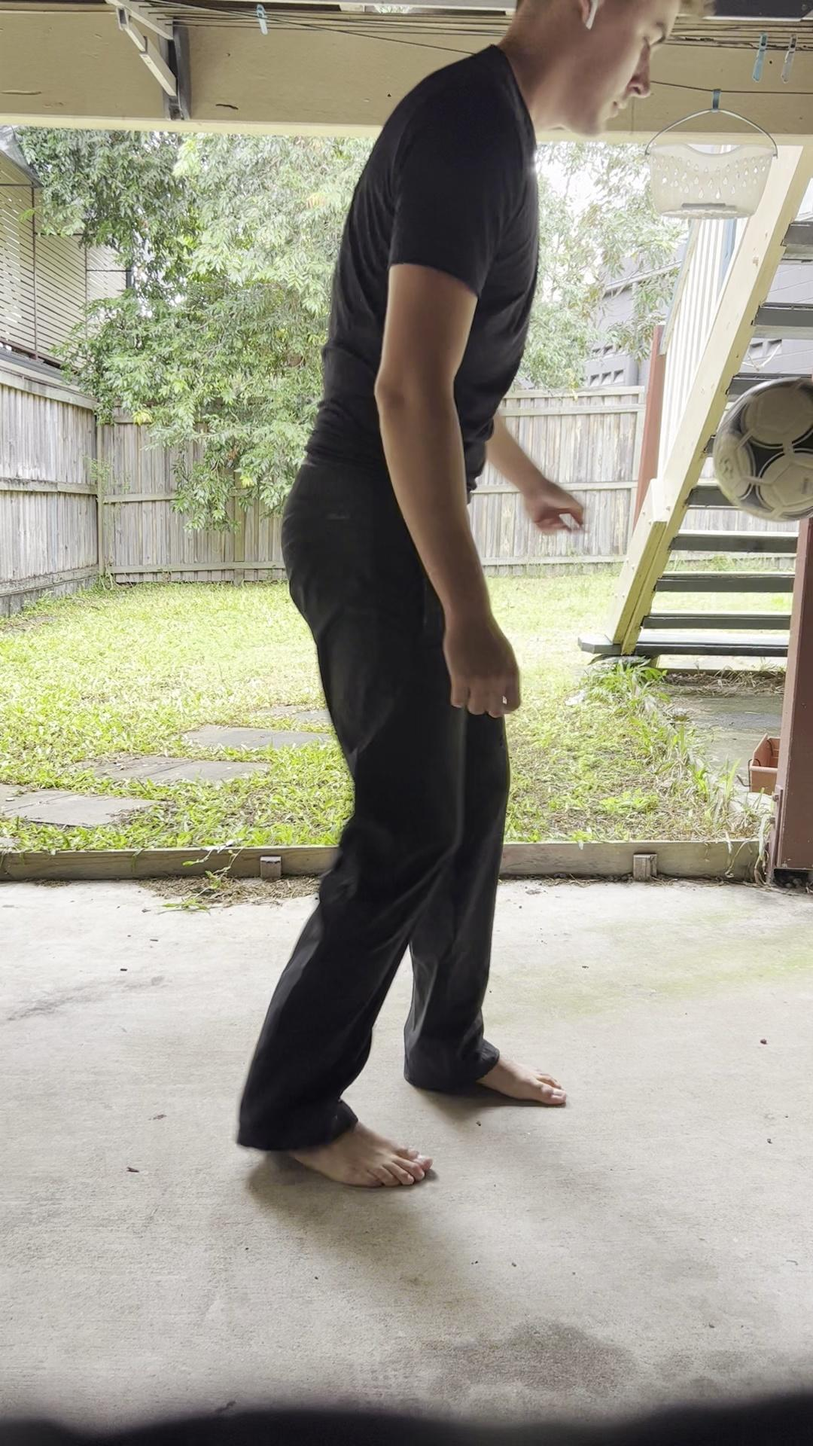ball: (711, 377, 813, 527)
foot: (272, 1120, 434, 1188), (468, 1049, 570, 1114)
person: (239, 0, 702, 1193)
